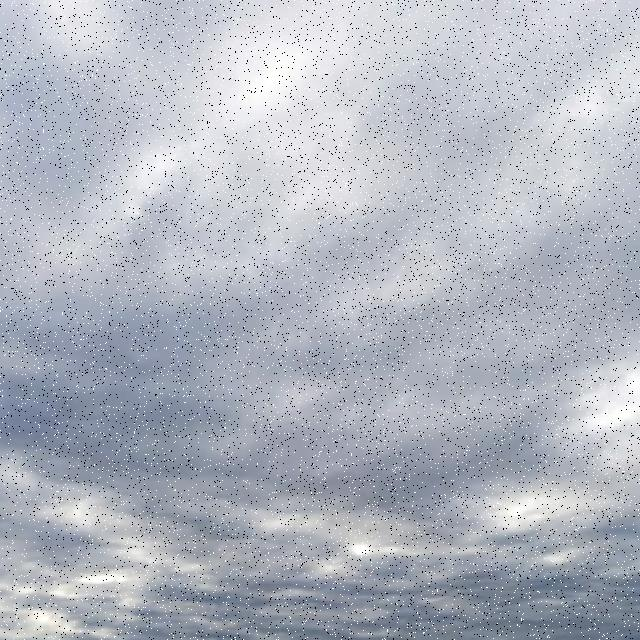As: (1, 59, 631, 617)
